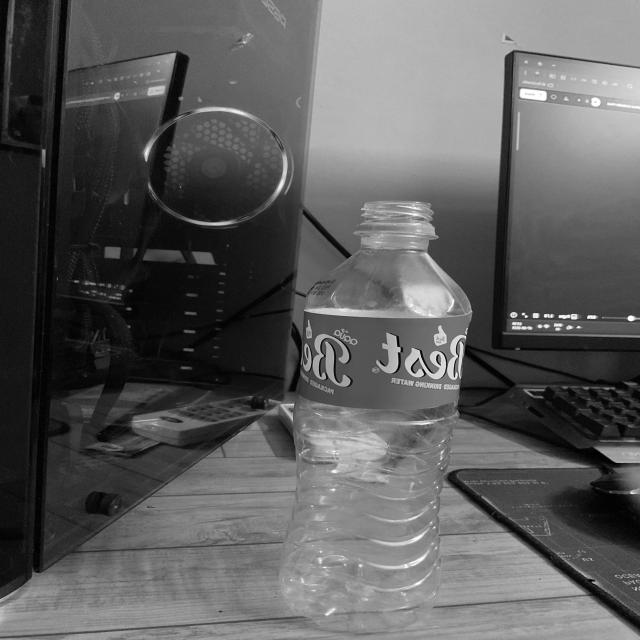open-cap: (359, 200, 435, 232)
